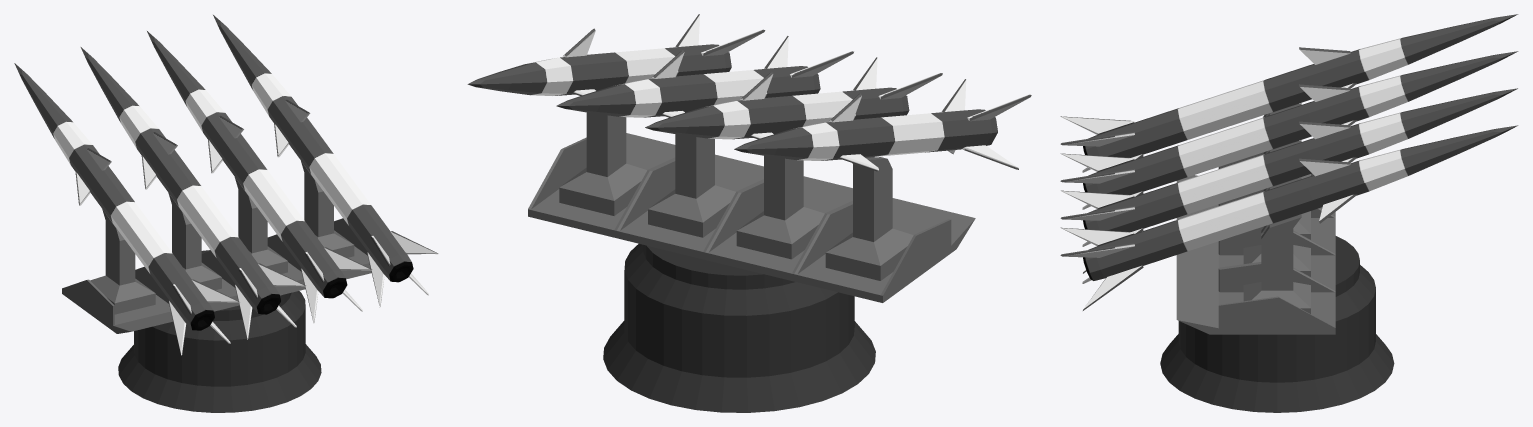
File: SamSite.fbx
The picture shows the model from 3 angles, left to right: view 1: azimuth 30°, elevation 25°; view 2: azimuth 150°, elevation 25°; view 3: azimuth 270°, elevation 25°; orthographic projection. The views are drawn at different scales.
Visible parts, largest first — view 1: Stand, RocketHolder, Rocket, Rocket.002, Rocket.001, Rocket.003; view 2: RocketHolder, Stand, Rocket, Rocket.001, Rocket.002, Rocket.003; view 3: Stand, RocketHolder, Rocket.003, Rocket.001, Rocket.002, Rocket.
Part boxes in pixels (x1,y1,x2,y2): Stand: [118, 250, 321, 412]; RocketHolder: [62, 161, 371, 333]; Rocket: [14, 63, 239, 355]; Rocket.002: [147, 31, 372, 323]; Rocket.001: [80, 47, 305, 339]; Rocket.003: [213, 15, 438, 307]; RocketHolder: [528, 112, 975, 302]; Stand: [603, 244, 875, 412]; Rocket: [734, 79, 1031, 171]; Rocket.001: [645, 57, 942, 139]; Rocket.002: [556, 36, 853, 117]; Rocket.003: [467, 14, 765, 95]; Stand: [1160, 236, 1394, 412]; RocketHolder: [1176, 103, 1335, 334]; Rocket.003: [1060, 125, 1518, 310]; Rocket.001: [1060, 51, 1518, 209]; Rocket.002: [1060, 88, 1517, 273]; Rocket: [1060, 14, 1518, 172].
Size of the model in its own units: 600 by 553 by 784.
Materials: 3 (1 with a texture image).
